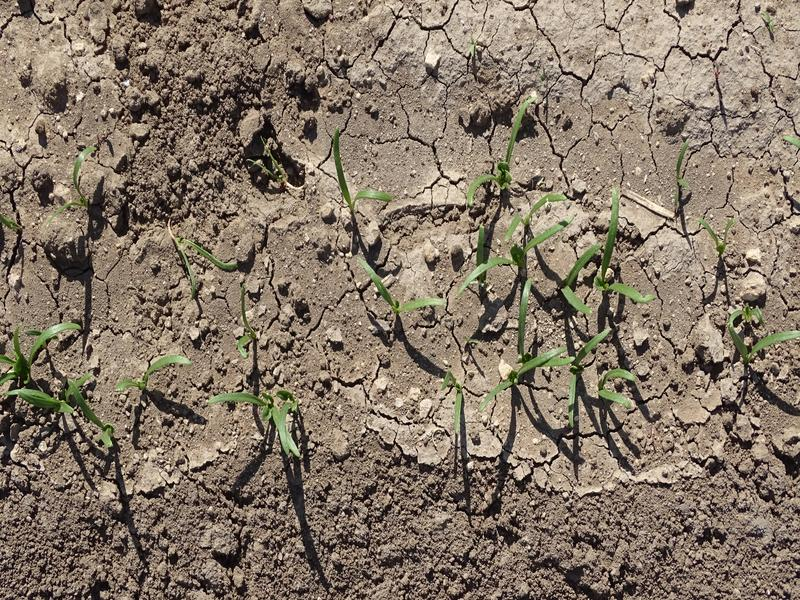Espinaca: (476, 135, 644, 440), (1, 328, 116, 440), (676, 142, 733, 256), (213, 391, 311, 456), (359, 263, 447, 318), (322, 142, 388, 213), (723, 307, 798, 358), (116, 351, 194, 393), (441, 374, 466, 435)
